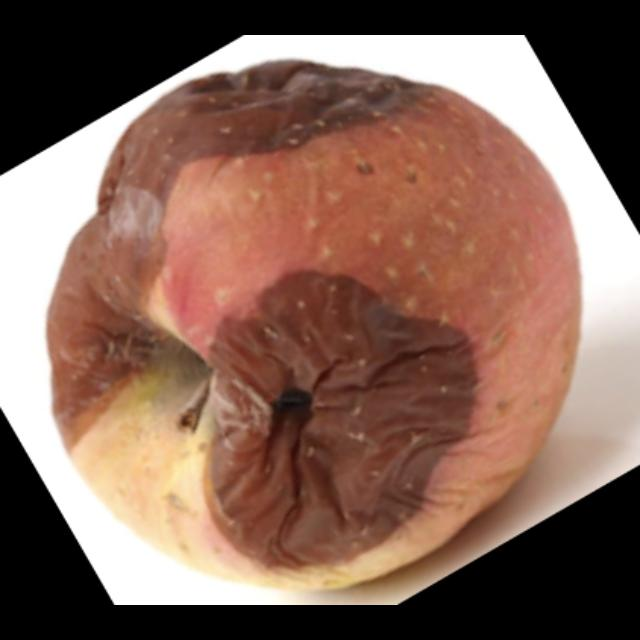Apel Tidak Segar: (49, 74, 603, 568)
